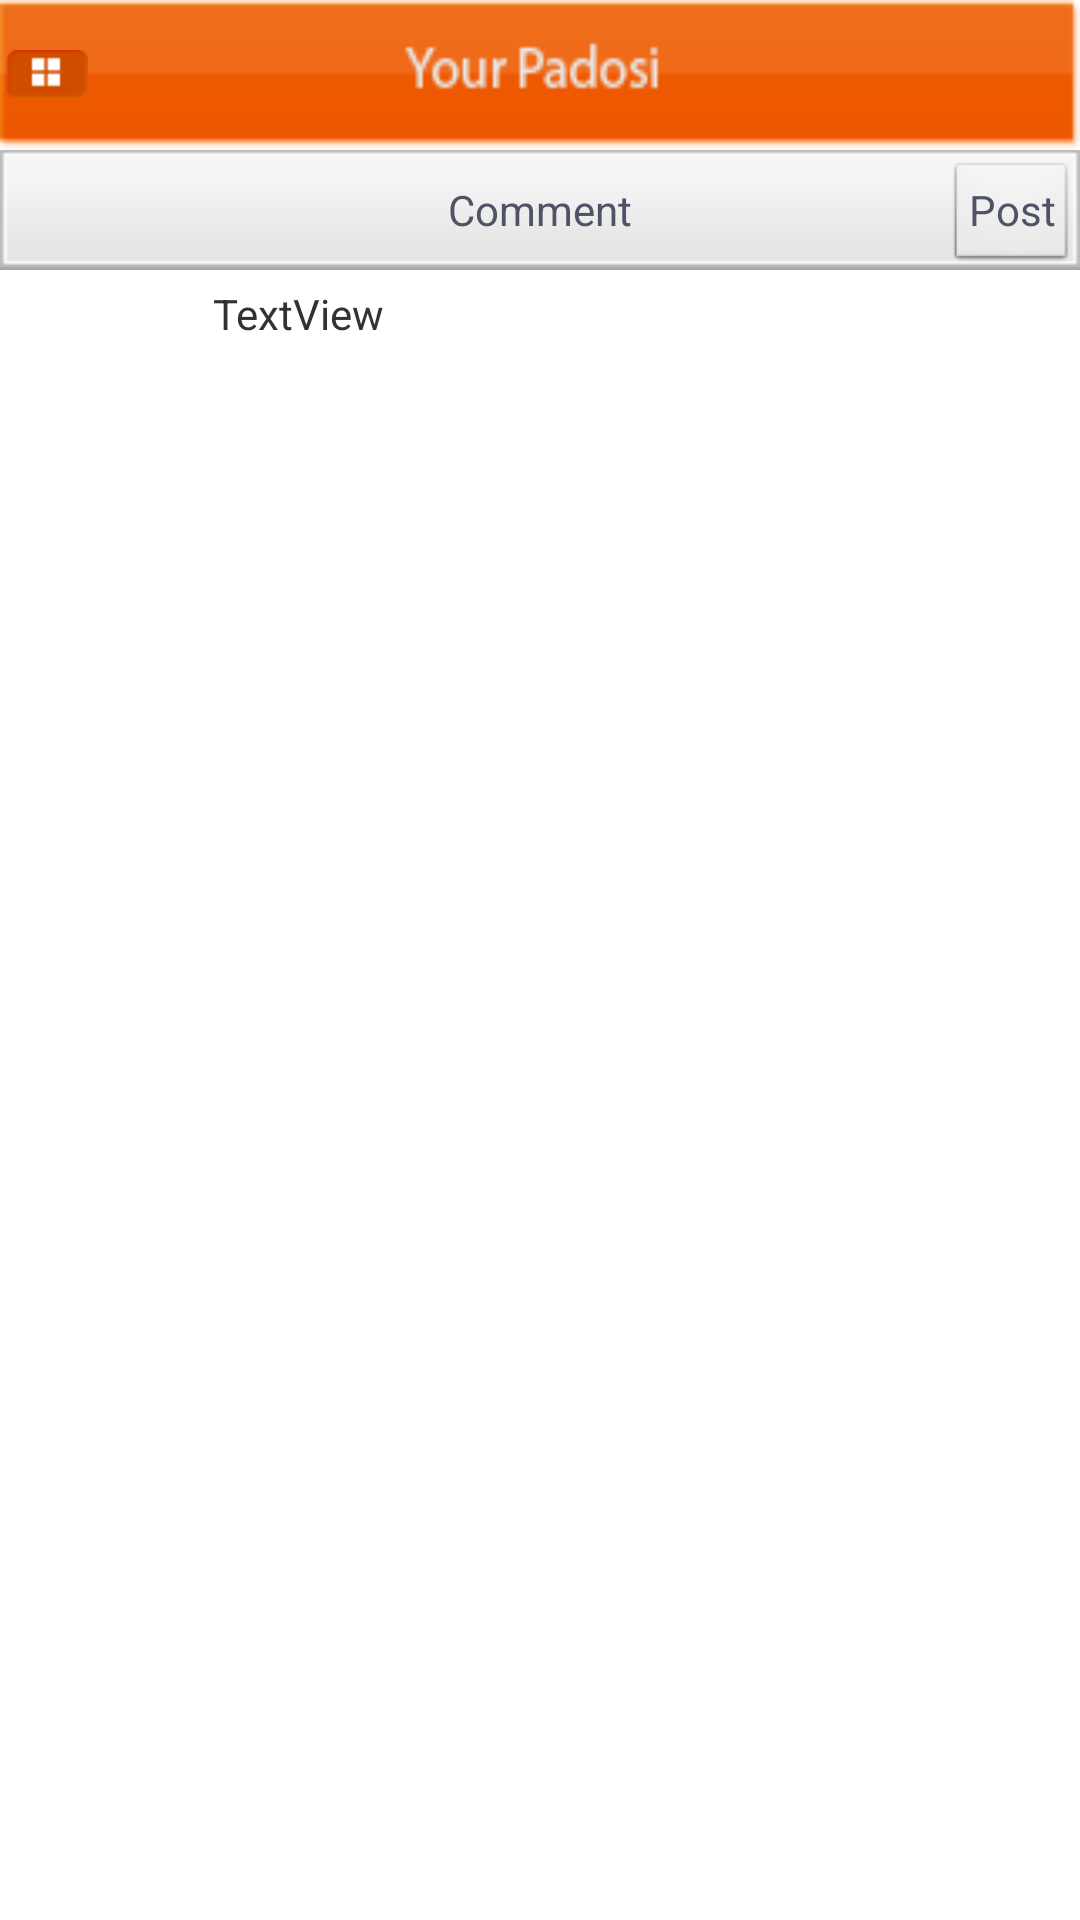

Where to tap for icons on this 1080px x 1920px app screen, as point (x, y):
menuicon: point (47, 75)
